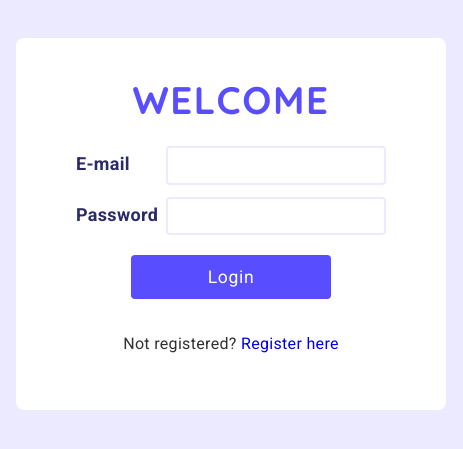
LoginForm Component › shows error messages when email or password is empty
Click login button with empty fields
Click the button "Login" at (231, 277), box x1=131 y1=255 x2=331 y2=299
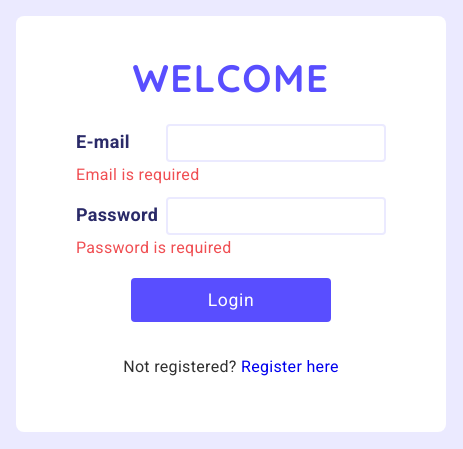
Expected: the text "Email is required" is shown, x1=76 y1=165 x2=200 y2=184
Expected: the text "Password is required" is shown, x1=76 y1=238 x2=232 y2=257
